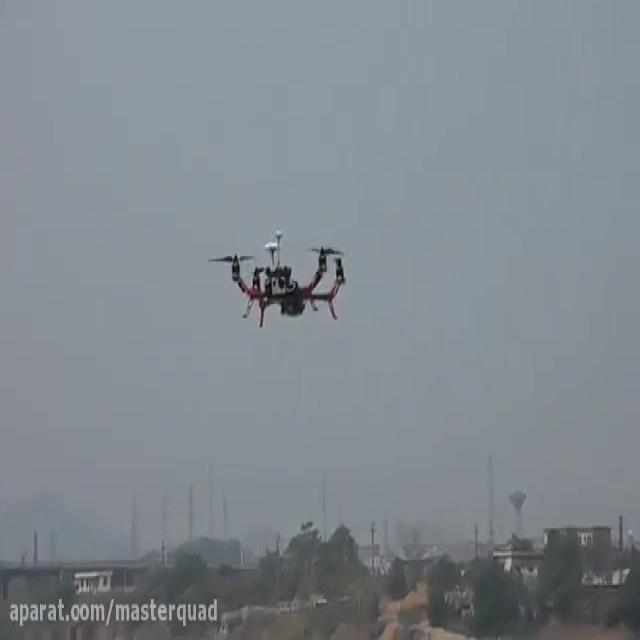drone: (204, 224, 352, 336)
